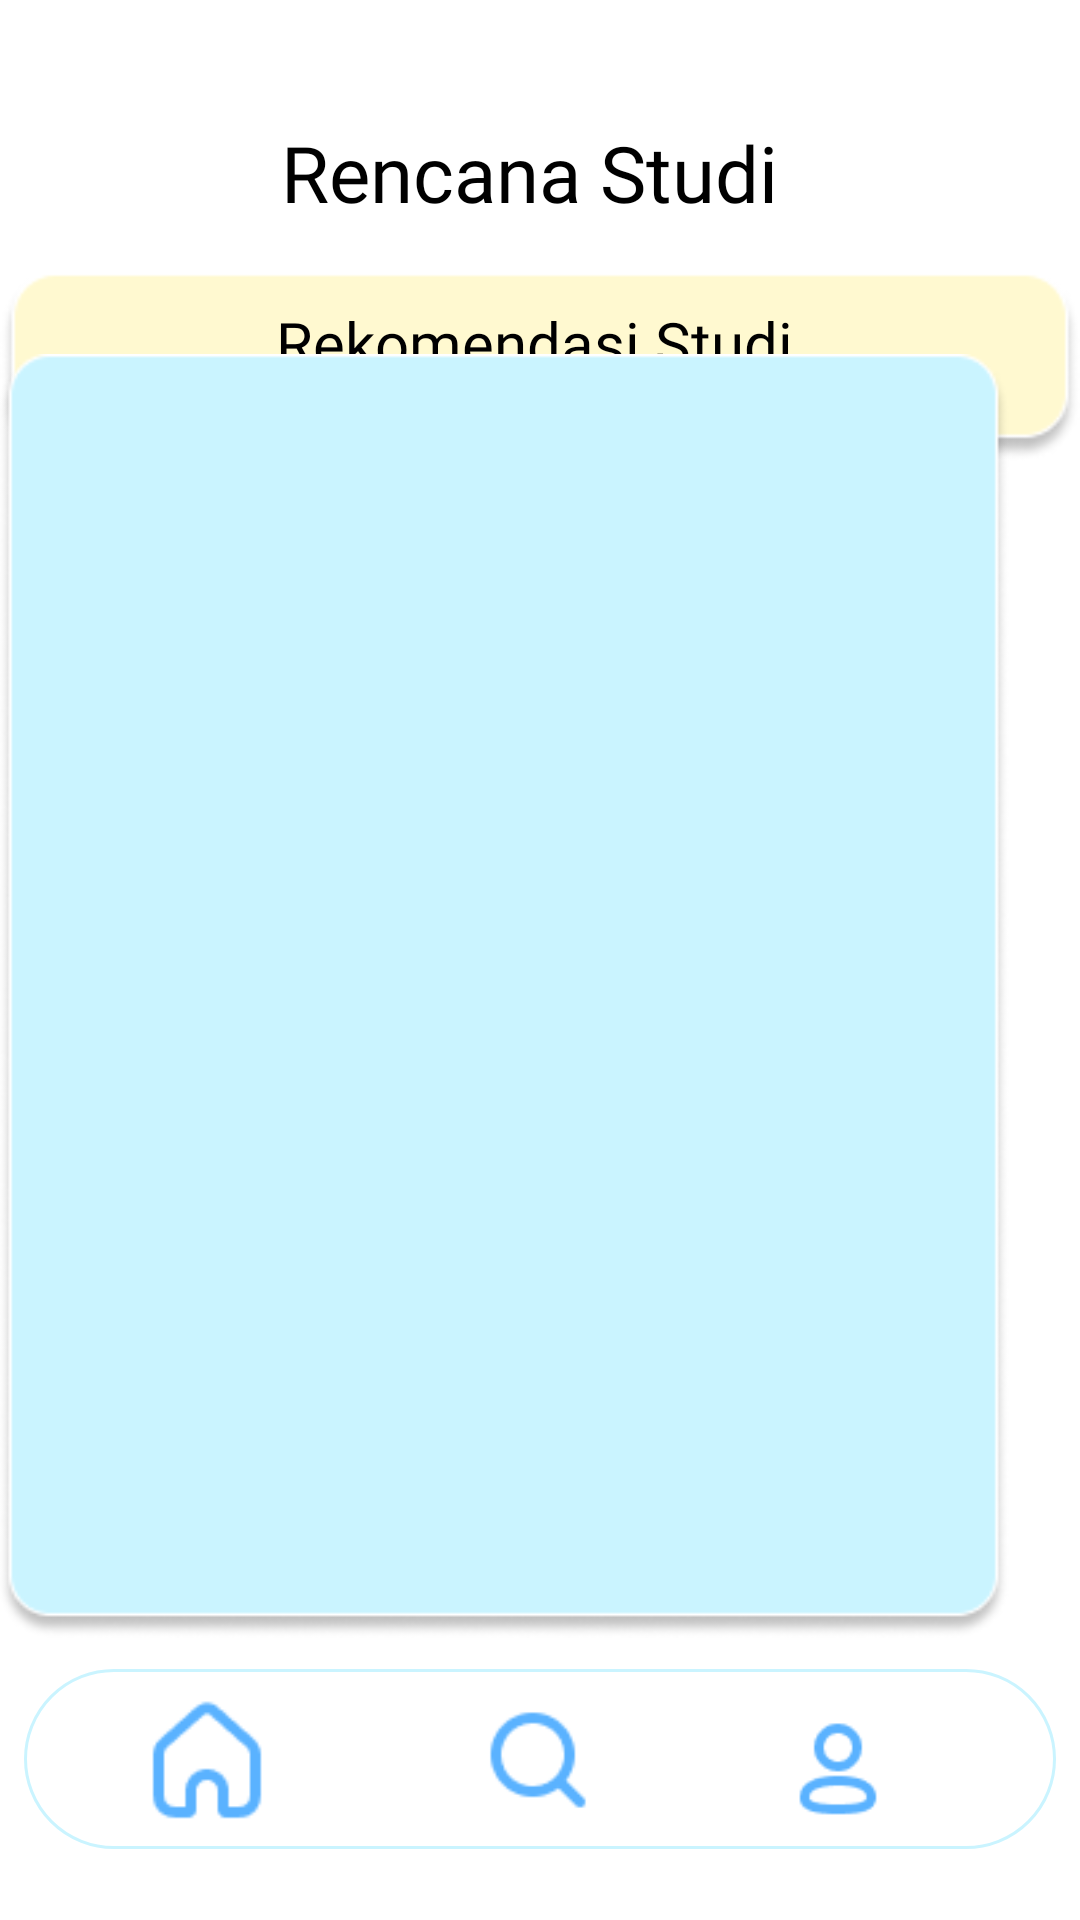

Icon click points for this 1080px x 1920px phone screenshot, format point (x, y):
Home: point (207, 1760)
Profile: point (838, 1769)
Search: point (538, 1760)
